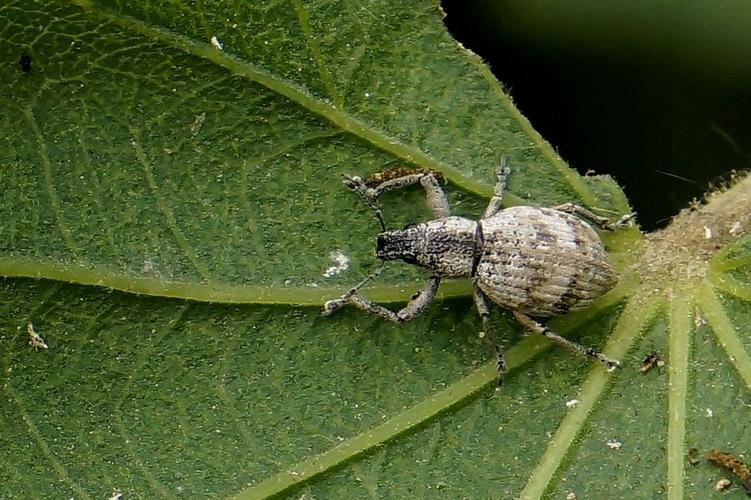Curculionidae: (315, 154, 638, 388)
